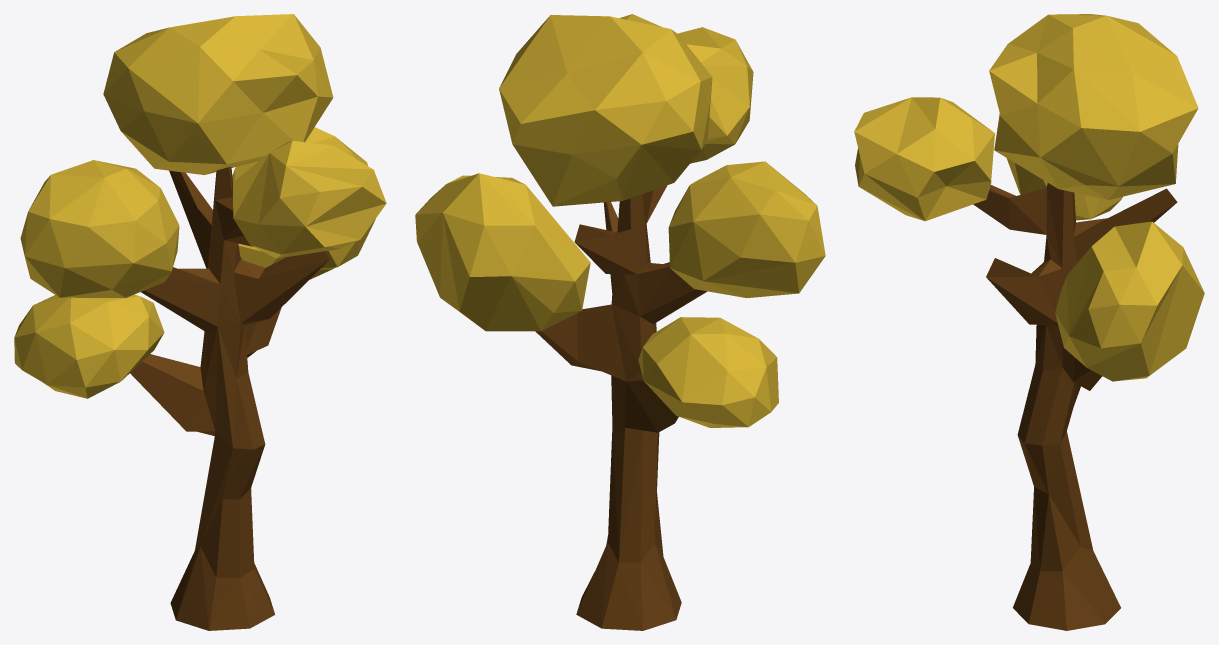
Rendered from co_Tree01_B.fbx.
3 renders of one model, left to right at view 1: azimuth 30°, elevation 25°; view 2: azimuth 150°, elevation 25°; view 3: azimuth 270°, elevation 25°, orthographic.
Parts seen in each view (by area): view 1: Tree01_B_LOD0; view 2: Tree01_B_LOD0; view 3: Tree01_B_LOD0.
Boxes of the visible parts, <box> form: Tree01_B_LOD0: <box>14,14,386,630</box>; Tree01_B_LOD0: <box>415,14,825,630</box>; Tree01_B_LOD0: <box>854,14,1204,630</box>.
Size of what is drawn, in the model's own units: 16.59 by 25.04 by 13.54.
